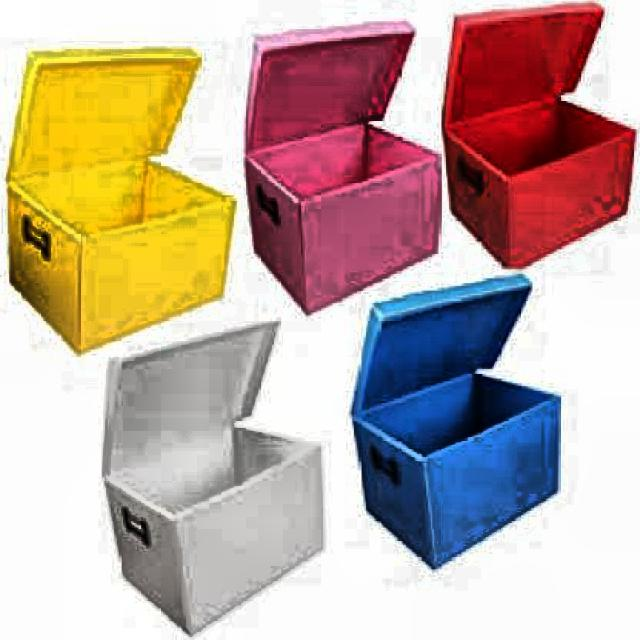Cardbox: (93, 307, 326, 640), (8, 38, 239, 357), (350, 271, 562, 574), (251, 1, 453, 298), (439, 2, 640, 271)
